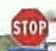stop: (10, 7, 48, 47)
